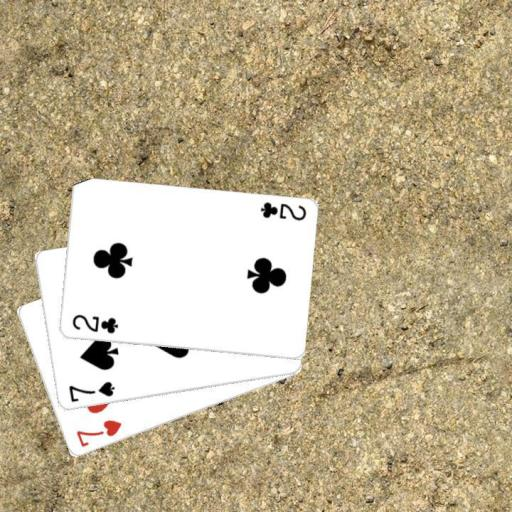2C: (69, 312, 120, 336), (257, 199, 307, 223)
7H: (73, 417, 123, 449)
7S: (65, 379, 116, 405)
